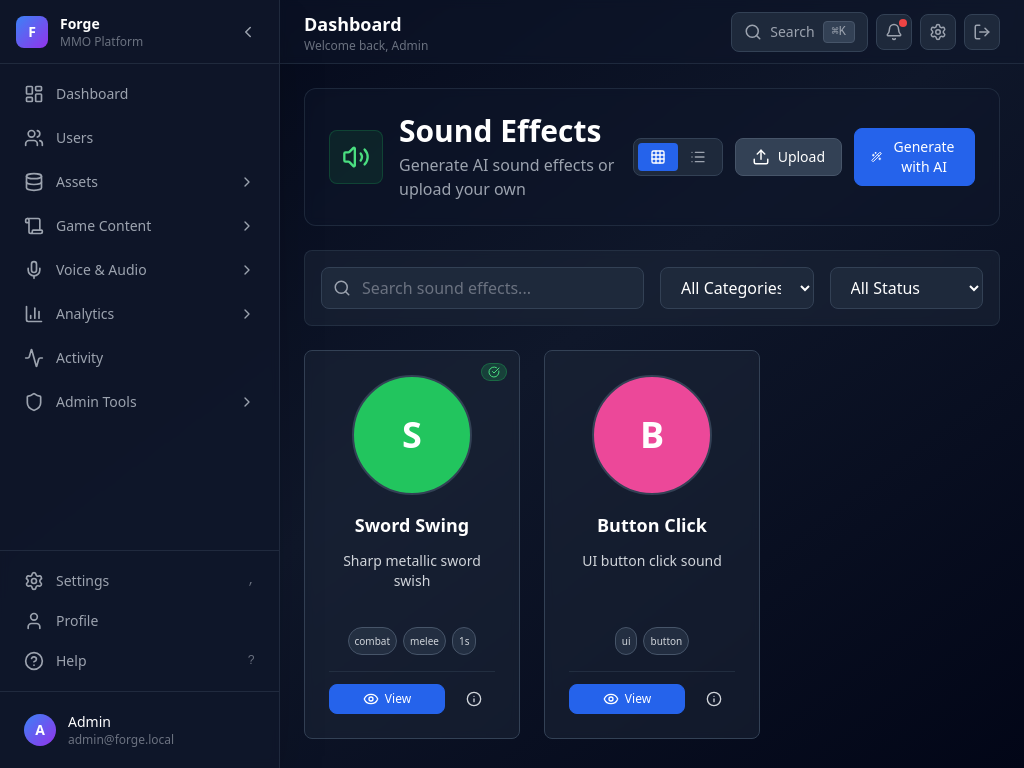
Test case: SoundEffectsPage - Integration Tests › AI Generation › shows loading state during generation
expect the heading "Sword Swing" is shown: met, box [355,513,469,537]
Open modal and fill
Click the button "Generate with AI" at (914, 157), box [854,128,975,186]
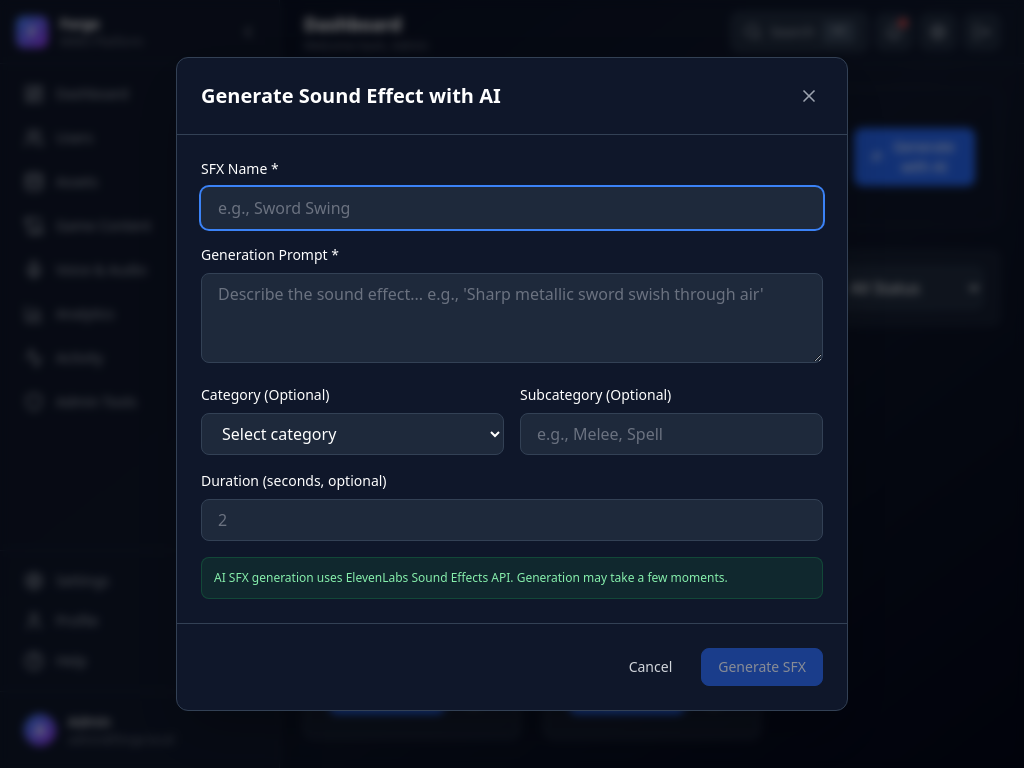
Type "Test" into the field with placeholder "e.g., Sword Swing" at (512, 208), box [201,187,823,229]
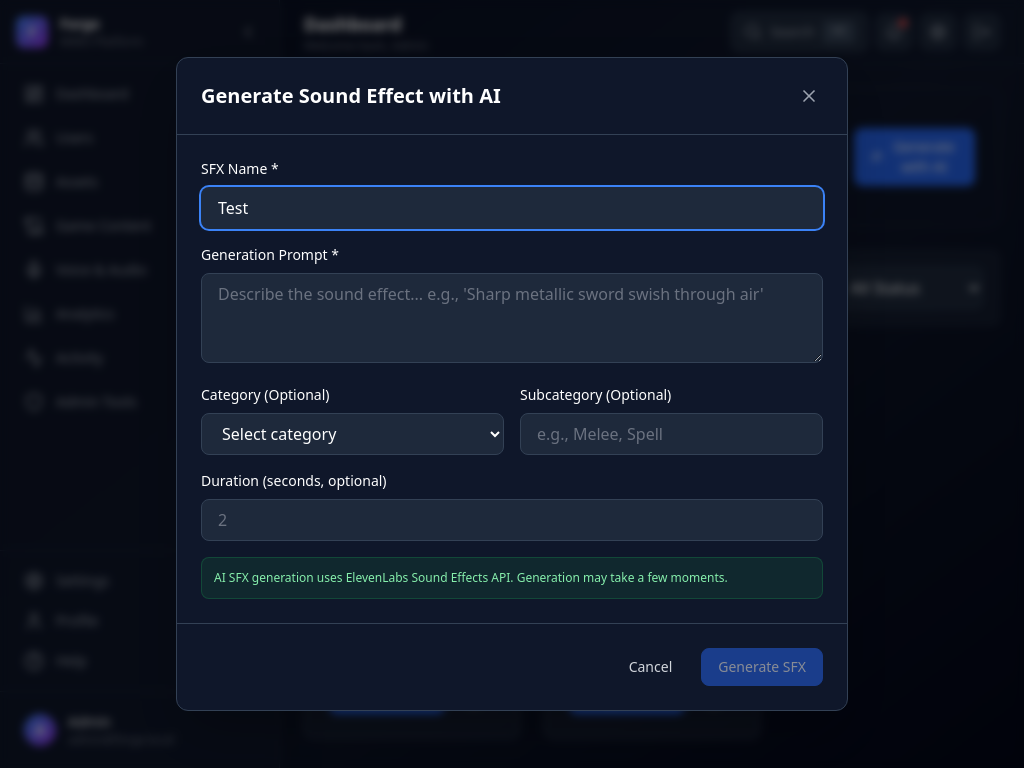
Type "Test prompt" into the text box with placeholder "Describe the sound effect" at (512, 318), box [201,273,823,363]
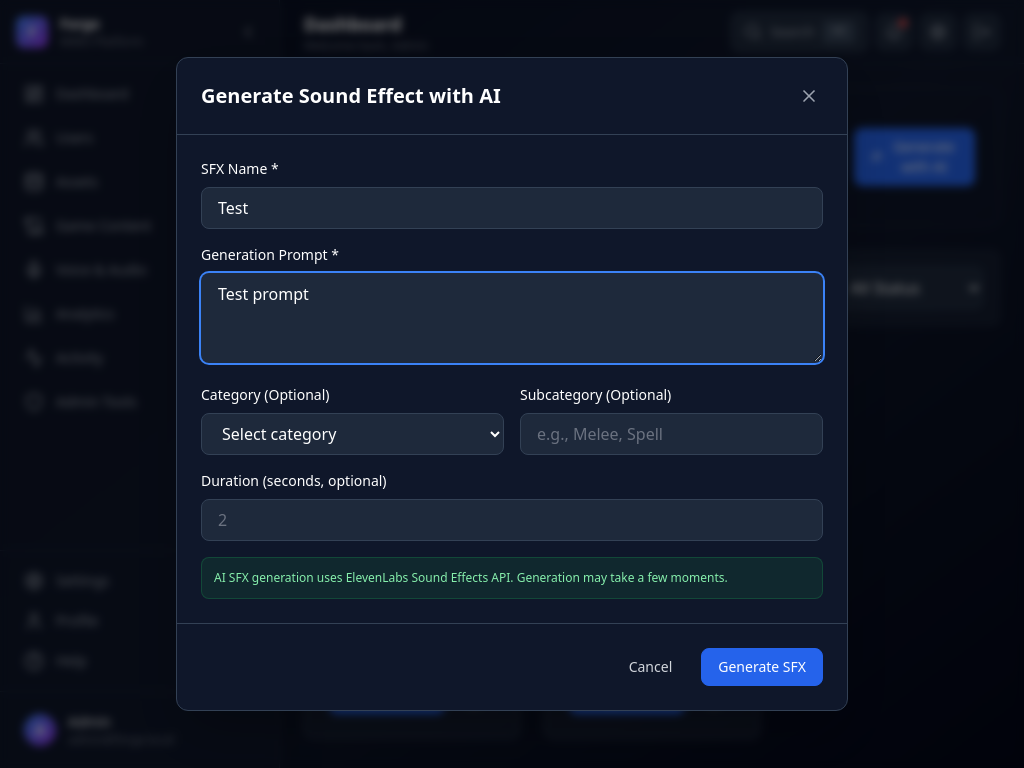
Click the button "Generate SFX" at (762, 667), box [701,648,823,686]
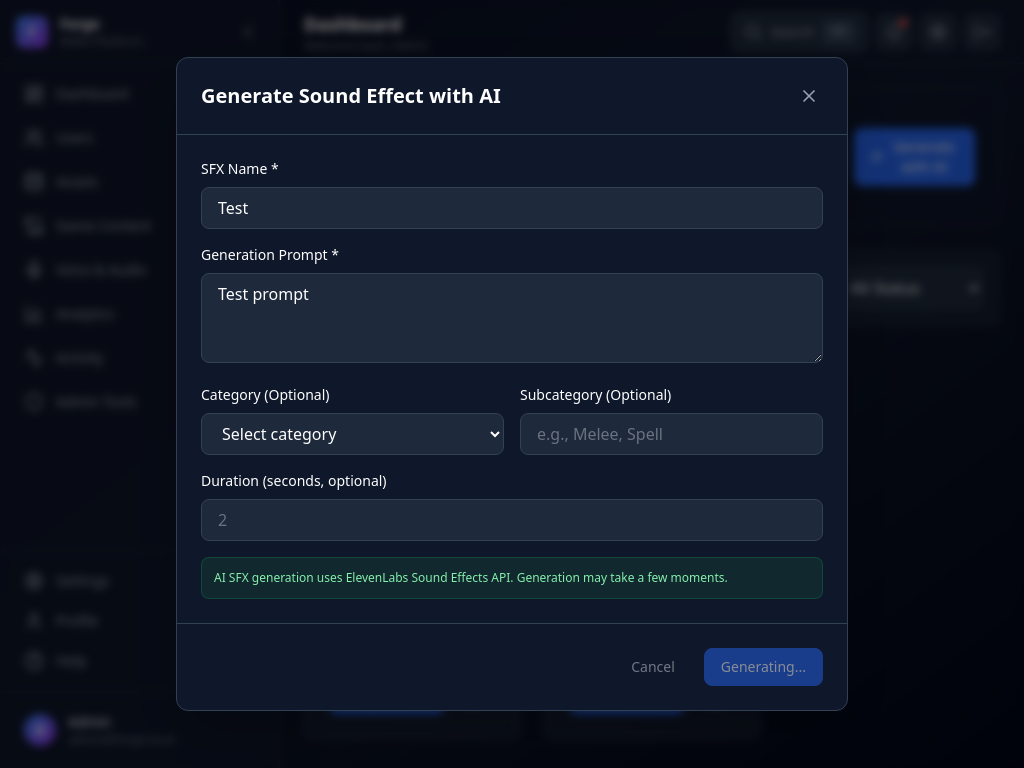
expect the button "Generating..." is shown: met, box [704,648,823,686]
